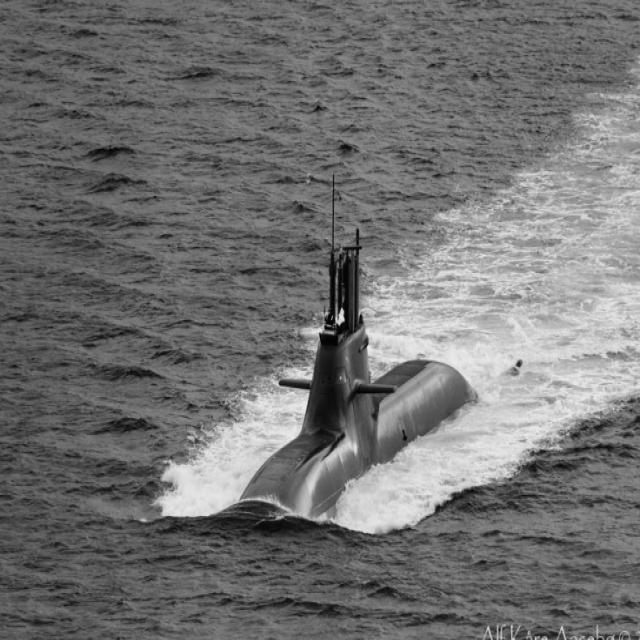submarine: (240, 175, 527, 540)
